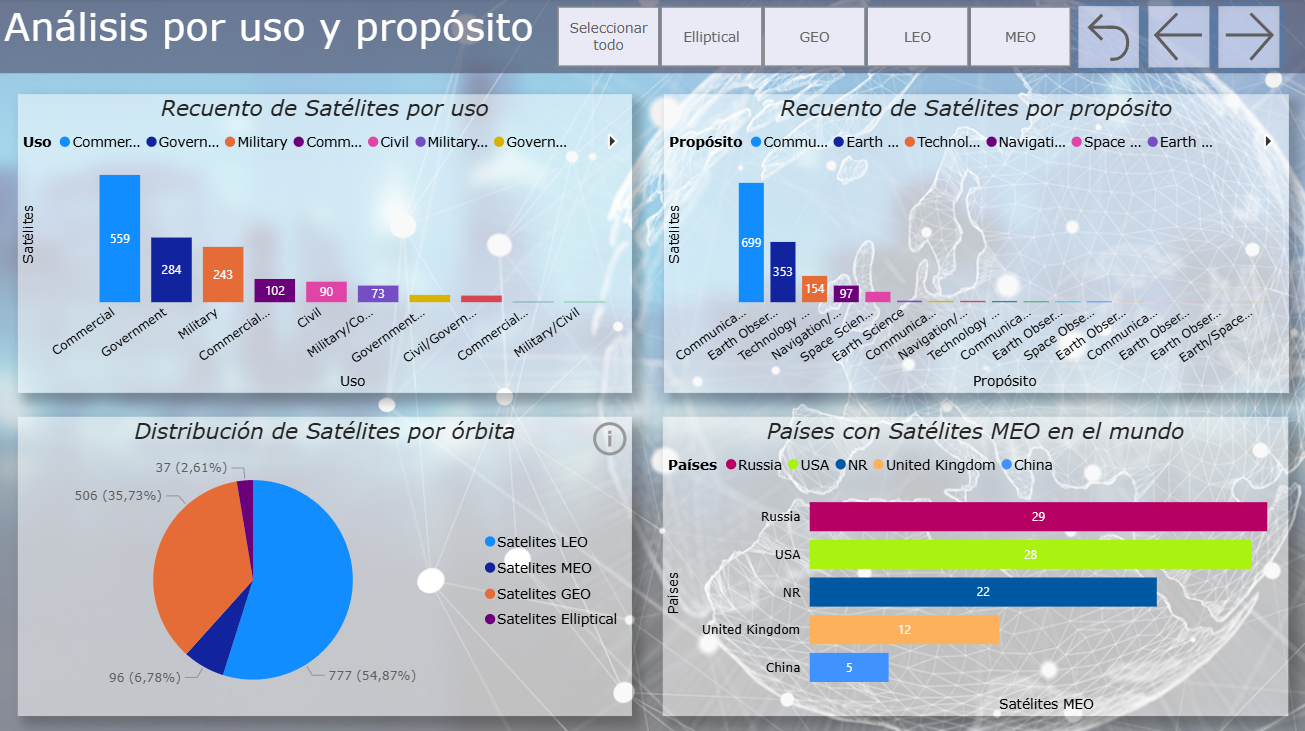

The dashboard page shown, as its layout file describes it:
{"tool":"powerbi","page":{"name":"Usos","canvas":[1280,720],"ordinal":3},"visuals":[{"type":"textbox","box":[0,0,1280,73.9],"z":0},{"type":"actionButton","box":[1115.9,0,95.6,75.8],"z":1000},{"type":"actionButton","box":[1184.6,0,95.6,76.4],"z":2000},{"type":"slicer","fields":{"Values":["Orbitas.Nombre"]},"box":[525.4,6,541.8,62.7],"z":3000},{"type":"columnChart","title":"Recuento de Satélites por propósito ","fields":{"Category":["Propósitos.Tipo"],"Y":["CountNonNull(Satélites.SatélitesID)"],"Series":["Propósitos.Tipo"]},"box":[650.2,94.5,610.9,292.4],"z":4000},{"type":"columnChart","title":"Recuento de Satélites por uso","fields":{"Category":["Usos.Tipo"],"Y":["CountNonNull(Satélites.SatélitesID)"],"Series":["Usos.Tipo"]},"box":[18.9,94.5,600.7,292.4],"z":5000},{"type":"pieChart","title":"Distribución de Satélites por órbita","fields":{"Y":["Medidas.Satelites LEO","Medidas.Satelites MEO","Medidas.Satelites GEO","Medidas.Satelites Elip"]},"box":[18.7,409.6,600.7,293.2],"z":6000},{"type":"barChart","title":"Países con Satélites MEO en el mundo","fields":{"Category":["Países.Nombre"],"Y":["Medidas.Satelites MEO"],"Series":["Países.Nombre"]},"box":[649.7,409.7,612,293.1],"z":7000},{"type":"actionButton","box":[1047.9,0,75.2,76.4],"z":8000},{"type":"actionButton","box":[576.3,409.6,43.1,43.1],"z":9001}]}

Visuals, with their boxes in screenshot pixels (x1, y1, x2, y2), scaled from the page's 1280x720 canvas onto the 1305x731 screenshot:
textbox: crop(0, 0, 1304, 75)
actionButton: crop(1138, 0, 1235, 77)
actionButton: crop(1208, 0, 1304, 78)
slicer - Orbitas.Nombre: crop(536, 6, 1088, 70)
"Recuento de Satélites por propósito " columnChart: crop(663, 96, 1286, 393)
"Recuento de Satélites por uso" columnChart: crop(19, 96, 632, 393)
"Distribución de Satélites por órbita" pieChart: crop(19, 416, 631, 714)
"Países con Satélites MEO en el mundo" barChart: crop(662, 416, 1286, 714)
actionButton: crop(1068, 0, 1145, 78)
actionButton: crop(588, 416, 631, 460)
